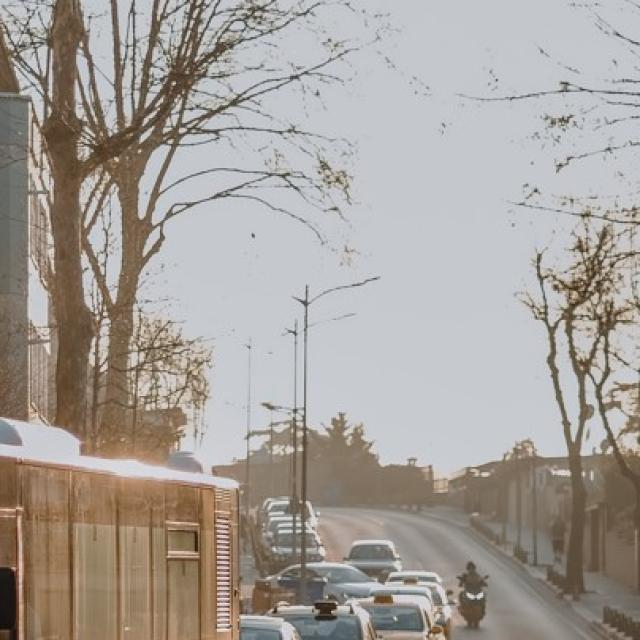bus: (0, 415, 236, 640)
car: (261, 562, 385, 604), (265, 598, 377, 640), (351, 594, 446, 640), (346, 538, 403, 580), (234, 614, 317, 640)
motorbike: (456, 560, 490, 628)
